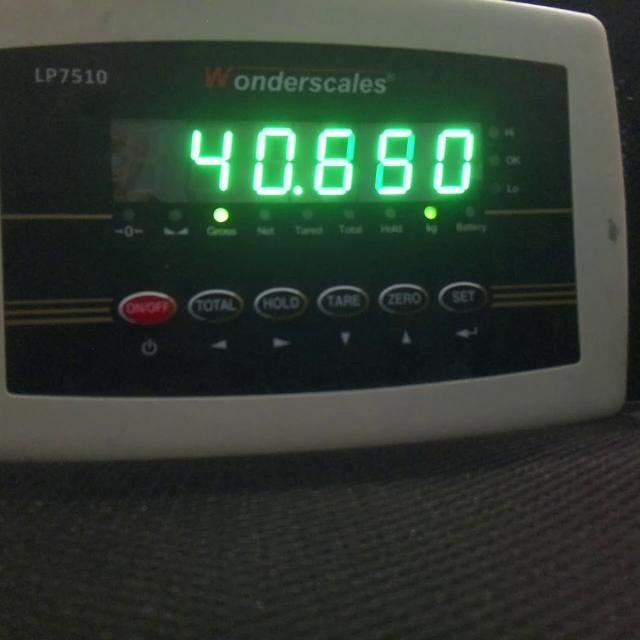.: (290, 183, 304, 197)
0: (252, 126, 296, 195), (433, 127, 473, 194)
4: (190, 128, 232, 192)
8: (313, 127, 356, 195), (374, 127, 415, 195)
